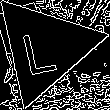L_N: (24, 20, 66, 76)
